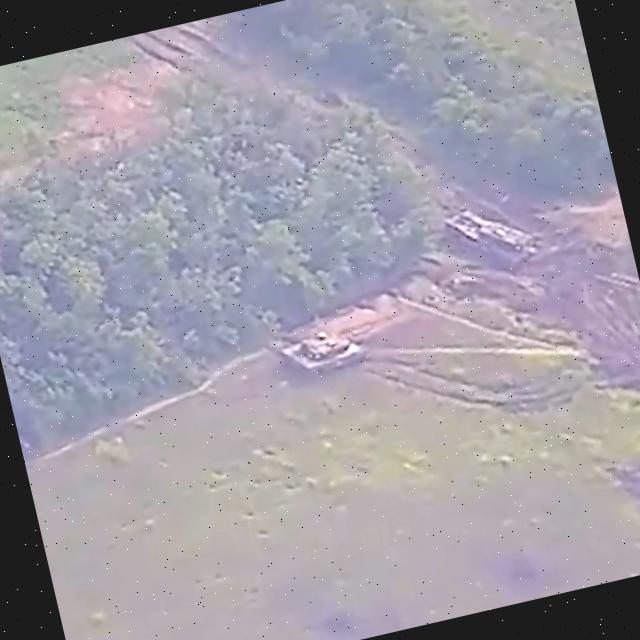MBT: (446, 193, 542, 283), (276, 316, 382, 383)
